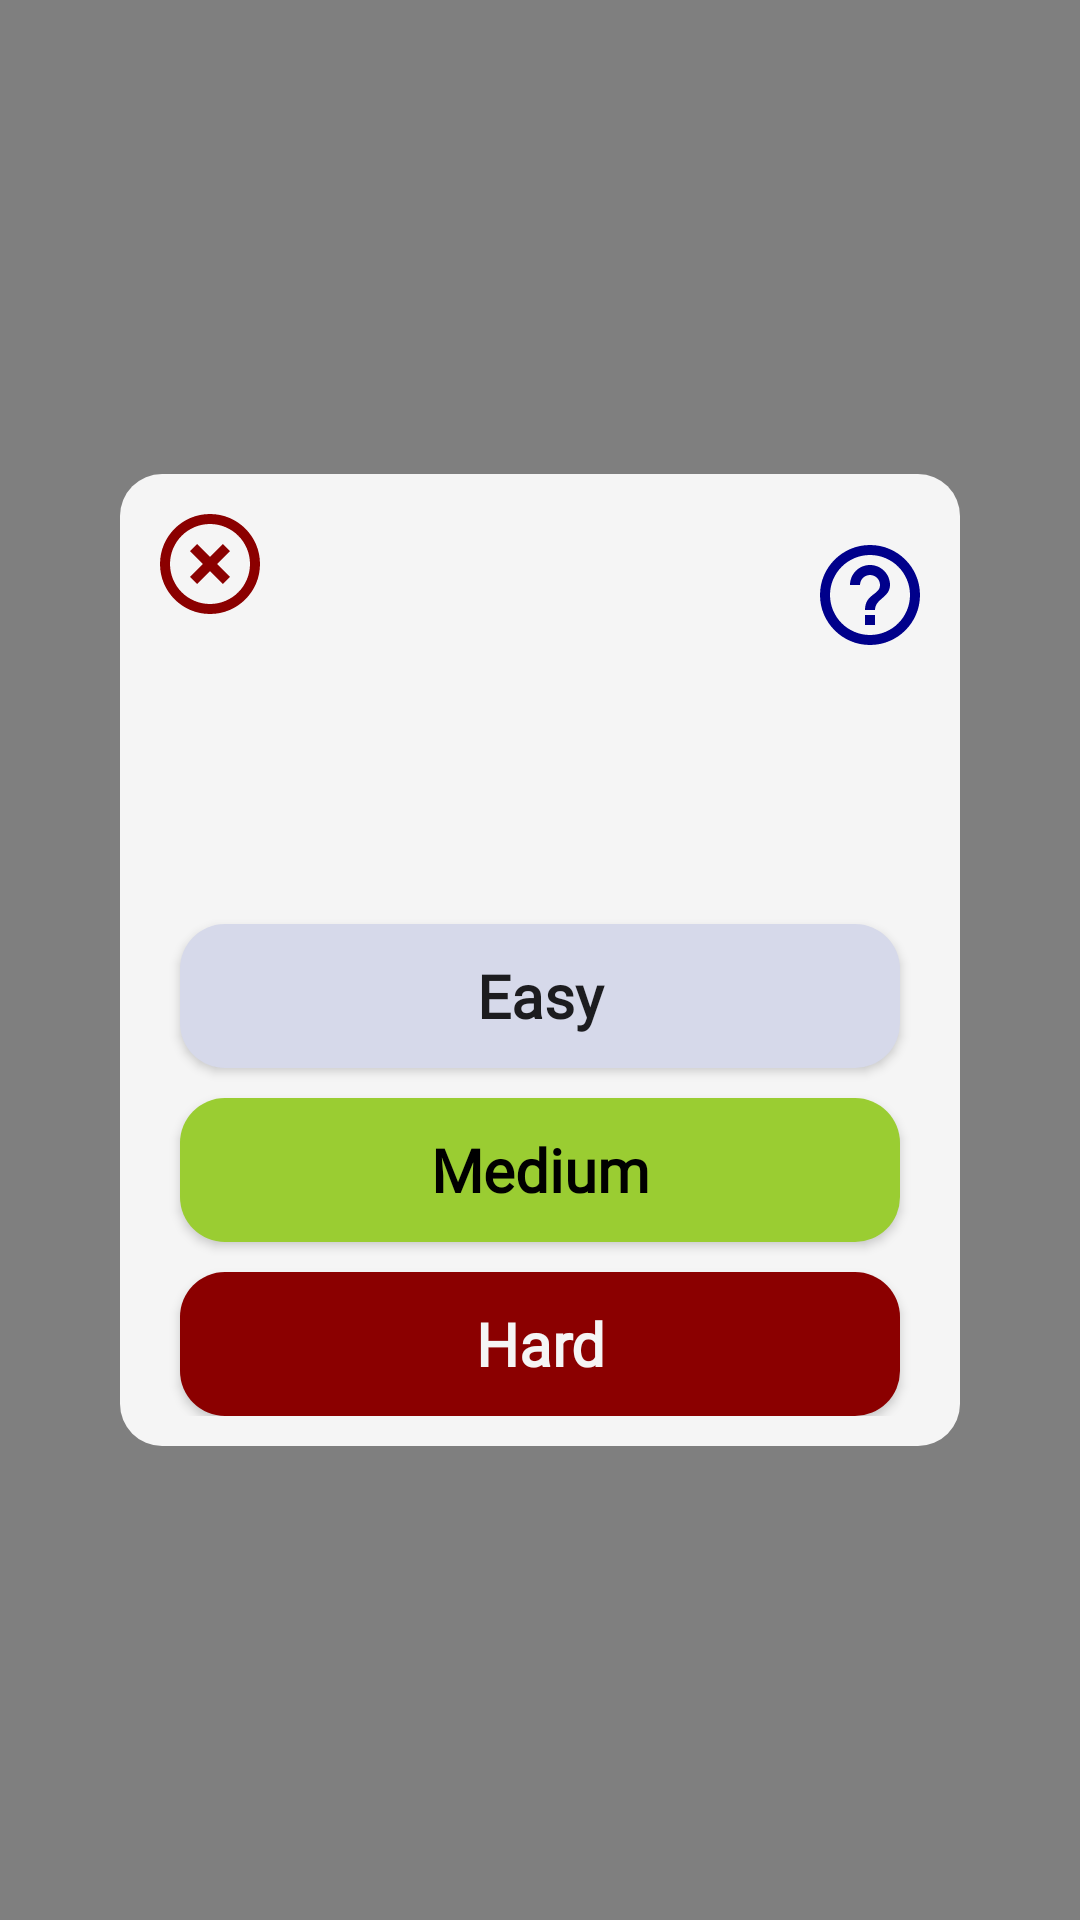

Icons on this 1080 × 1920 Android screen, each with its box as (x1, y1, x2, y2):
close: (160, 514, 260, 614)
help: (820, 545, 920, 645)
